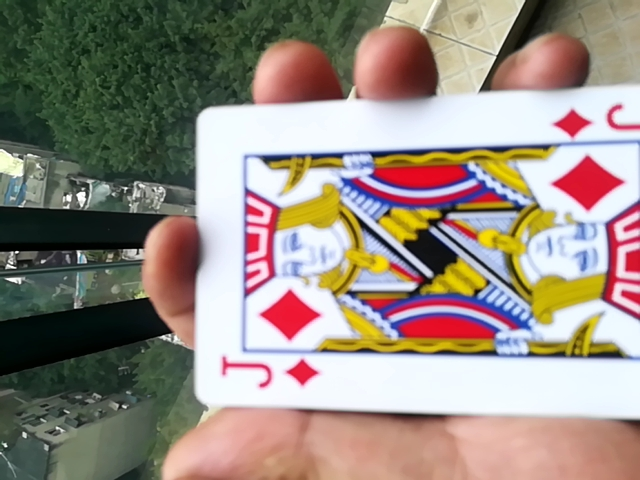fk j: (181, 99, 634, 424)
